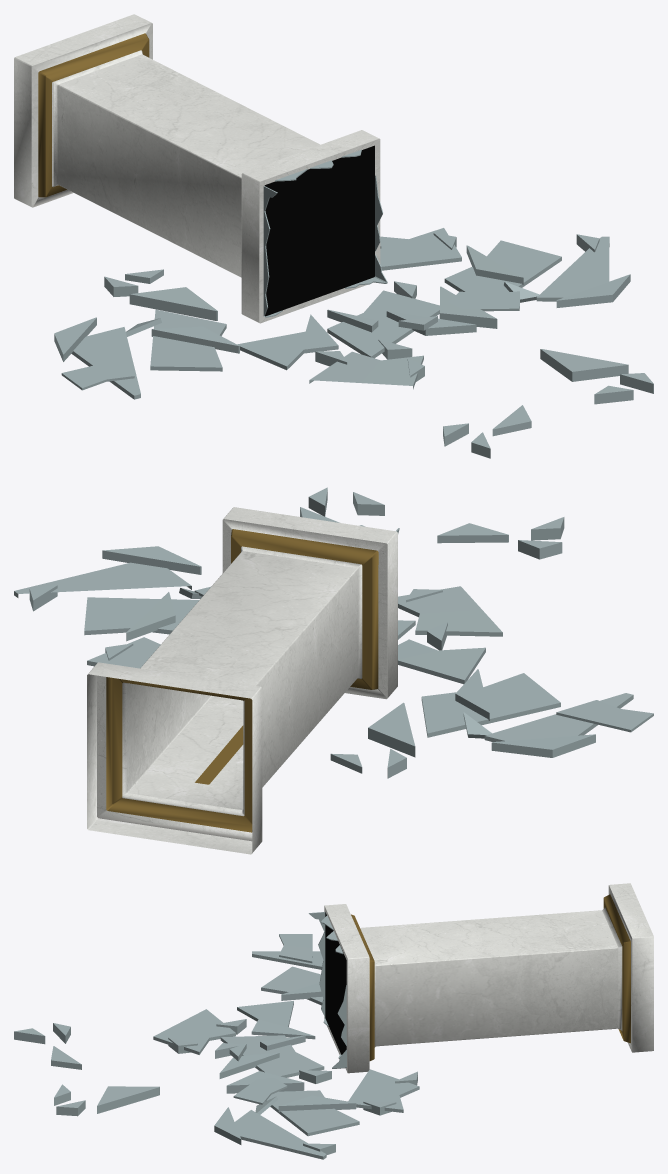
Rendered from PedestalBroken2.fbx.
The picture shows the model from 3 angles, top to bottom: view 1: azimuth 30°, elevation 25°; view 2: azimuth 150°, elevation 25°; view 3: azimuth 270°, elevation 25°; orthographic projection. The views are drawn at different scales.
Visible parts, largest first — view 1: MuseumWhole.037; view 2: MuseumWhole.037; view 3: MuseumWhole.037.
Part boxes in pixels (<box>): MuseumWhole.037: <box>14,14,653,458</box>; MuseumWhole.037: <box>14,487,653,854</box>; MuseumWhole.037: <box>14,883,653,1159</box>.
Bounding box in the file's own units: 151 × 38.46 × 186.
